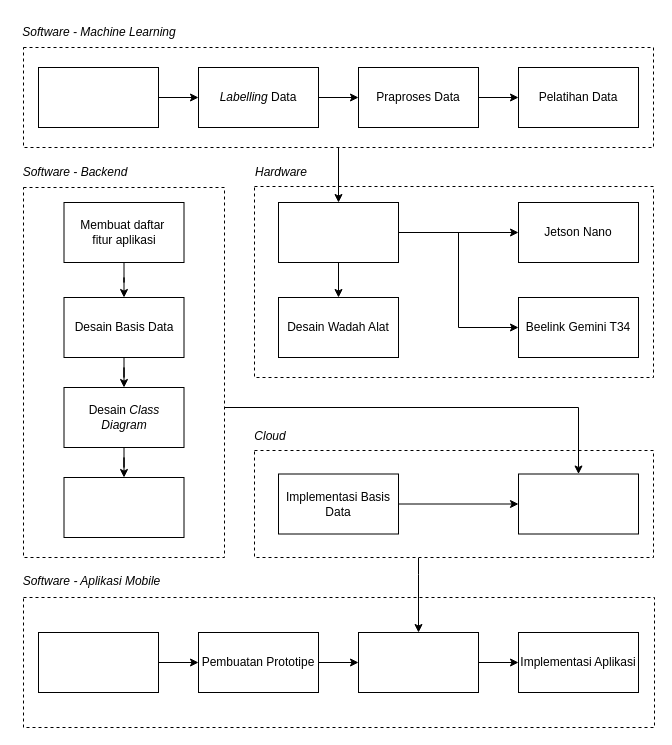
This 672x745 diagram has some shape labels left out. The box of each missing label's shape, as (x1, y1, x2, y2) in pixels:
Akuisisi Data: (38, 66, 158, 128)
Desain Wireframe dan Mockup: (38, 632, 158, 692)
Implementasi Backend di Cloud: (518, 473, 638, 534)
Implementasi Class Diagram: (63, 476, 184, 538)
Implementasi di Edge Device: (278, 202, 398, 262)
Integrasi Backend: (358, 632, 478, 692)
